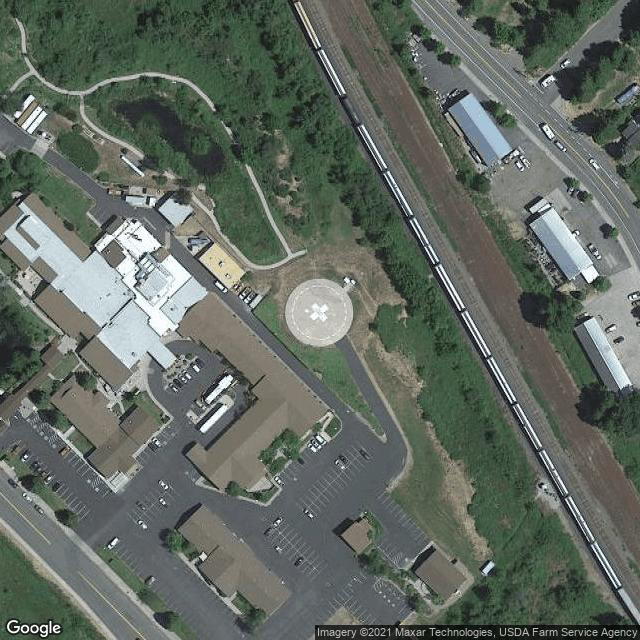Helipad: (294, 285, 350, 342)
